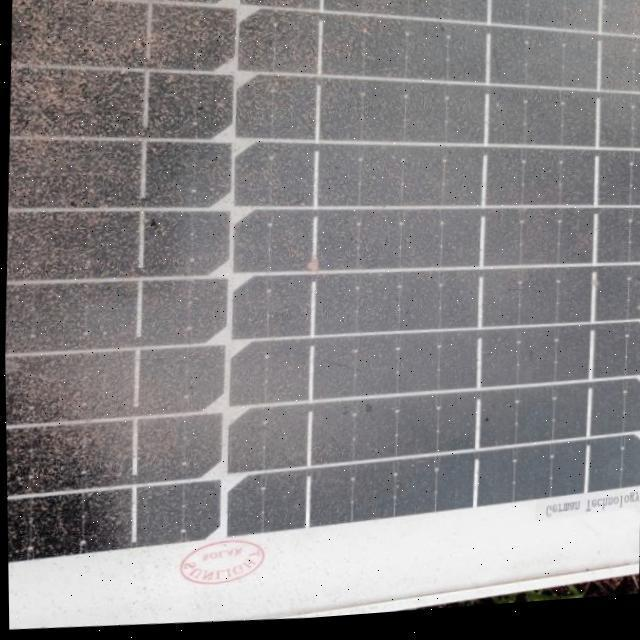Anomaly Solar Panel: (147, 0, 640, 532)
Surface Contaminant: (153, 0, 640, 516)
